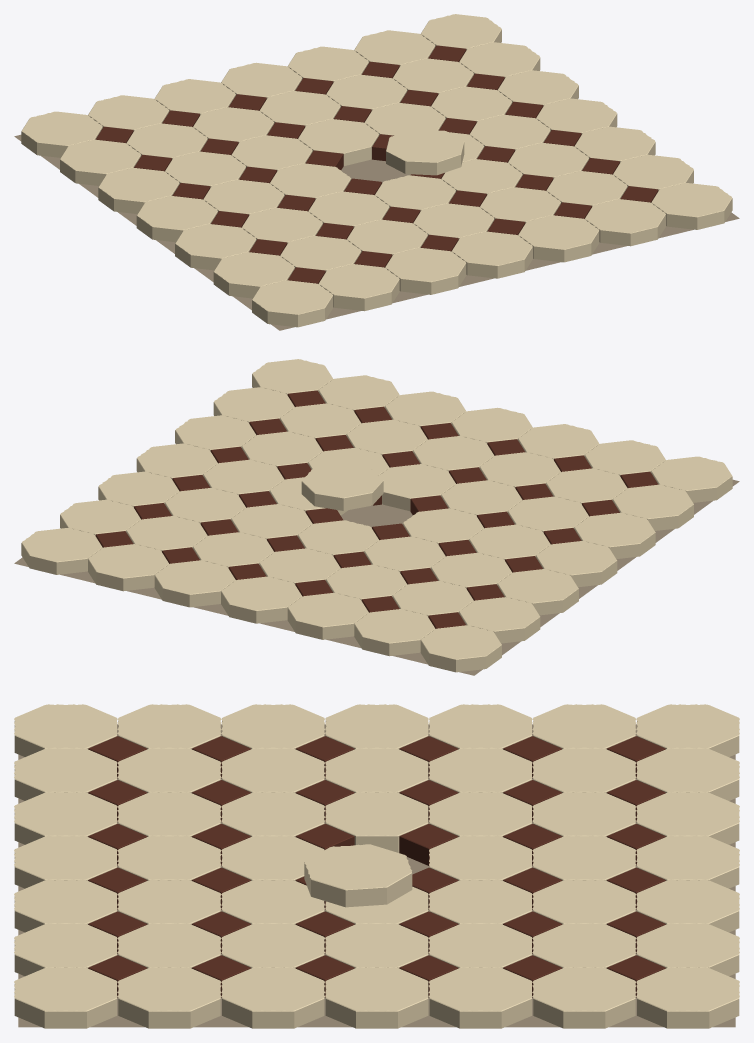
File: terilgan.glb
3 views of the same model, one above another, from view 1: azimuth 30°, elevation 25°; view 2: azimuth 150°, elevation 25°; view 3: azimuth 270°, elevation 25° (orthographic). The views are drawn at different scales.
Parts seen in each view (by area): view 1: qum, t, t.024, t.002, t.004, t.005, t.001, t.003, t.006, t.007, t.042, t.014 (+37 smaller); view 2: qum, t.024, t.042, t.044, t.046, t.047, t.043, t.045, t.048, t.035, t, t.028 (+38 smaller); view 3: t.024, t.027, t.006, t.048, t.020, t.034, t.013, t.041, t.023, t.001, t.043, t (+73 smaller).
Boxes of the visible parts, bbox=[...] form: qum: bbox=[14, 134, 739, 330]; t: bbox=[252, 280, 333, 327]; t.024: bbox=[386, 129, 464, 175]; t.002: bbox=[385, 247, 466, 294]; t.004: bbox=[518, 215, 599, 262]; t.005: bbox=[585, 199, 665, 246]; t.001: bbox=[318, 264, 399, 311]; t.003: bbox=[451, 231, 532, 278]; t.006: bbox=[651, 183, 732, 229]; t.007: bbox=[213, 252, 294, 298]; t.042: bbox=[21, 111, 102, 157]; t.014: bbox=[175, 224, 256, 270]; qum: bbox=[14, 479, 739, 675]; t.024: bbox=[301, 463, 383, 510]; t.042: bbox=[420, 625, 501, 672]; t.044: bbox=[287, 592, 368, 639]; t.046: bbox=[154, 560, 235, 607]; t.047: bbox=[88, 544, 168, 591]; t.043: bbox=[354, 609, 435, 656]; t.045: bbox=[221, 576, 302, 623]; t.048: bbox=[21, 528, 102, 574]; t.035: bbox=[459, 597, 540, 643]; t: bbox=[651, 456, 732, 502]; t.028: bbox=[497, 569, 578, 615]; t.024: bbox=[304, 844, 412, 907]; t.027: bbox=[325, 967, 428, 1028]; t.006: bbox=[14, 967, 117, 1028]; t.048: bbox=[636, 967, 739, 1028]; t.020: bbox=[221, 967, 324, 1028]; t.034: bbox=[429, 967, 532, 1028]; t.013: bbox=[118, 967, 221, 1028]; t.041: bbox=[532, 967, 635, 1028]; t.023: bbox=[325, 792, 428, 852]; t.001: bbox=[14, 748, 117, 800]; t.043: bbox=[636, 748, 739, 800]; t: bbox=[14, 704, 117, 756].
Size of the model in its own units: 1.68 by 0.092 by 1.68.
